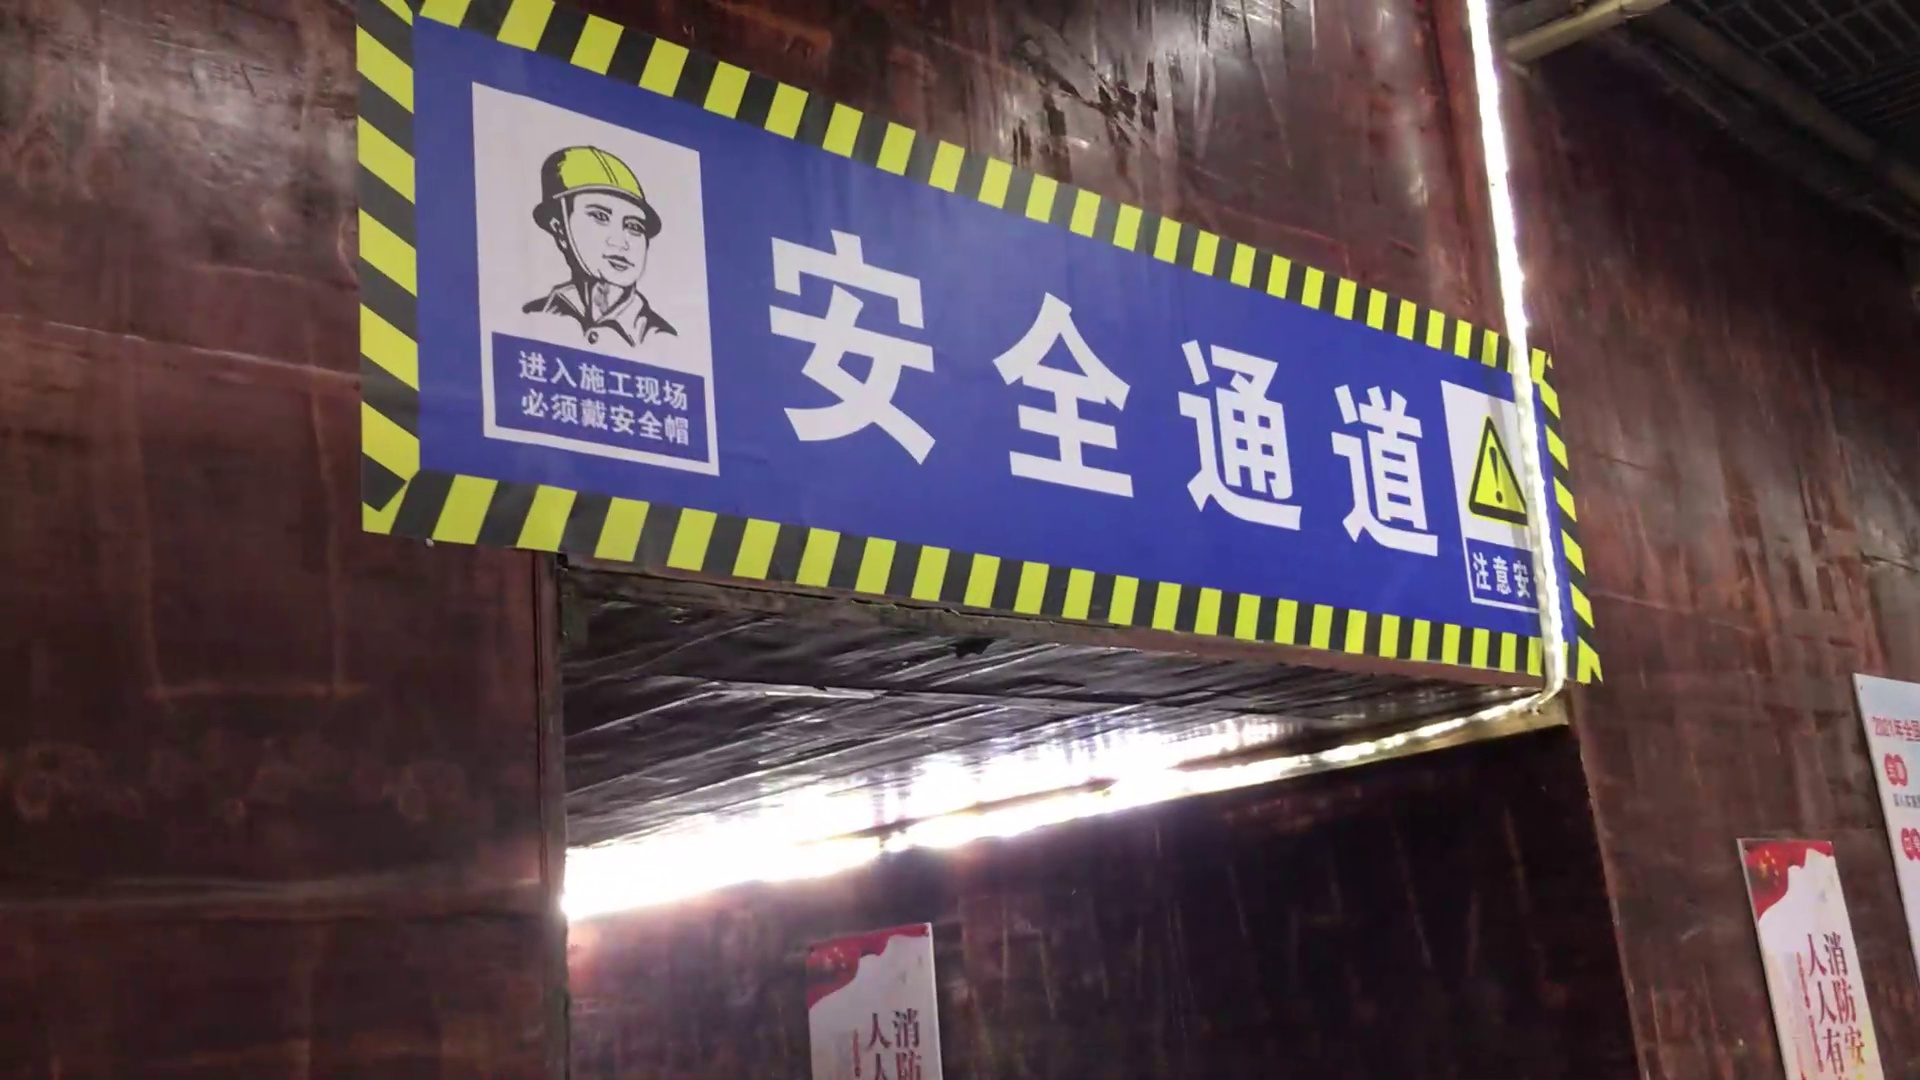slogan: (361, 58, 1597, 654), (1739, 832, 1884, 1080), (799, 916, 943, 1080), (1854, 673, 1920, 957)
